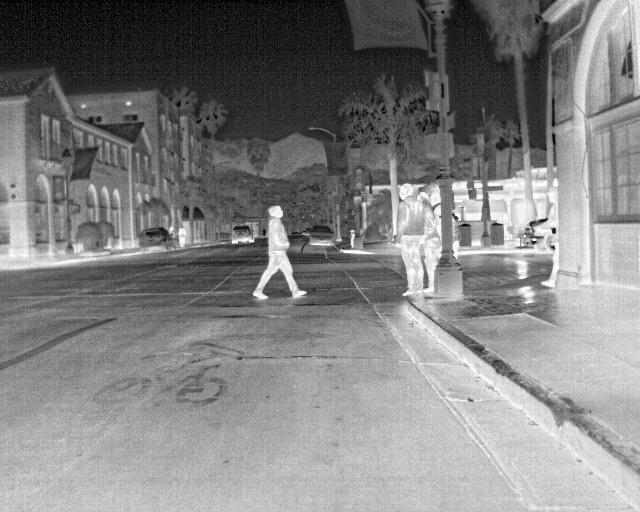bicycle: (136, 226, 180, 255), (525, 217, 558, 250), (302, 225, 336, 248), (229, 224, 256, 246)
empty: (251, 204, 308, 303), (395, 184, 427, 298), (416, 191, 442, 292), (533, 188, 558, 288)
